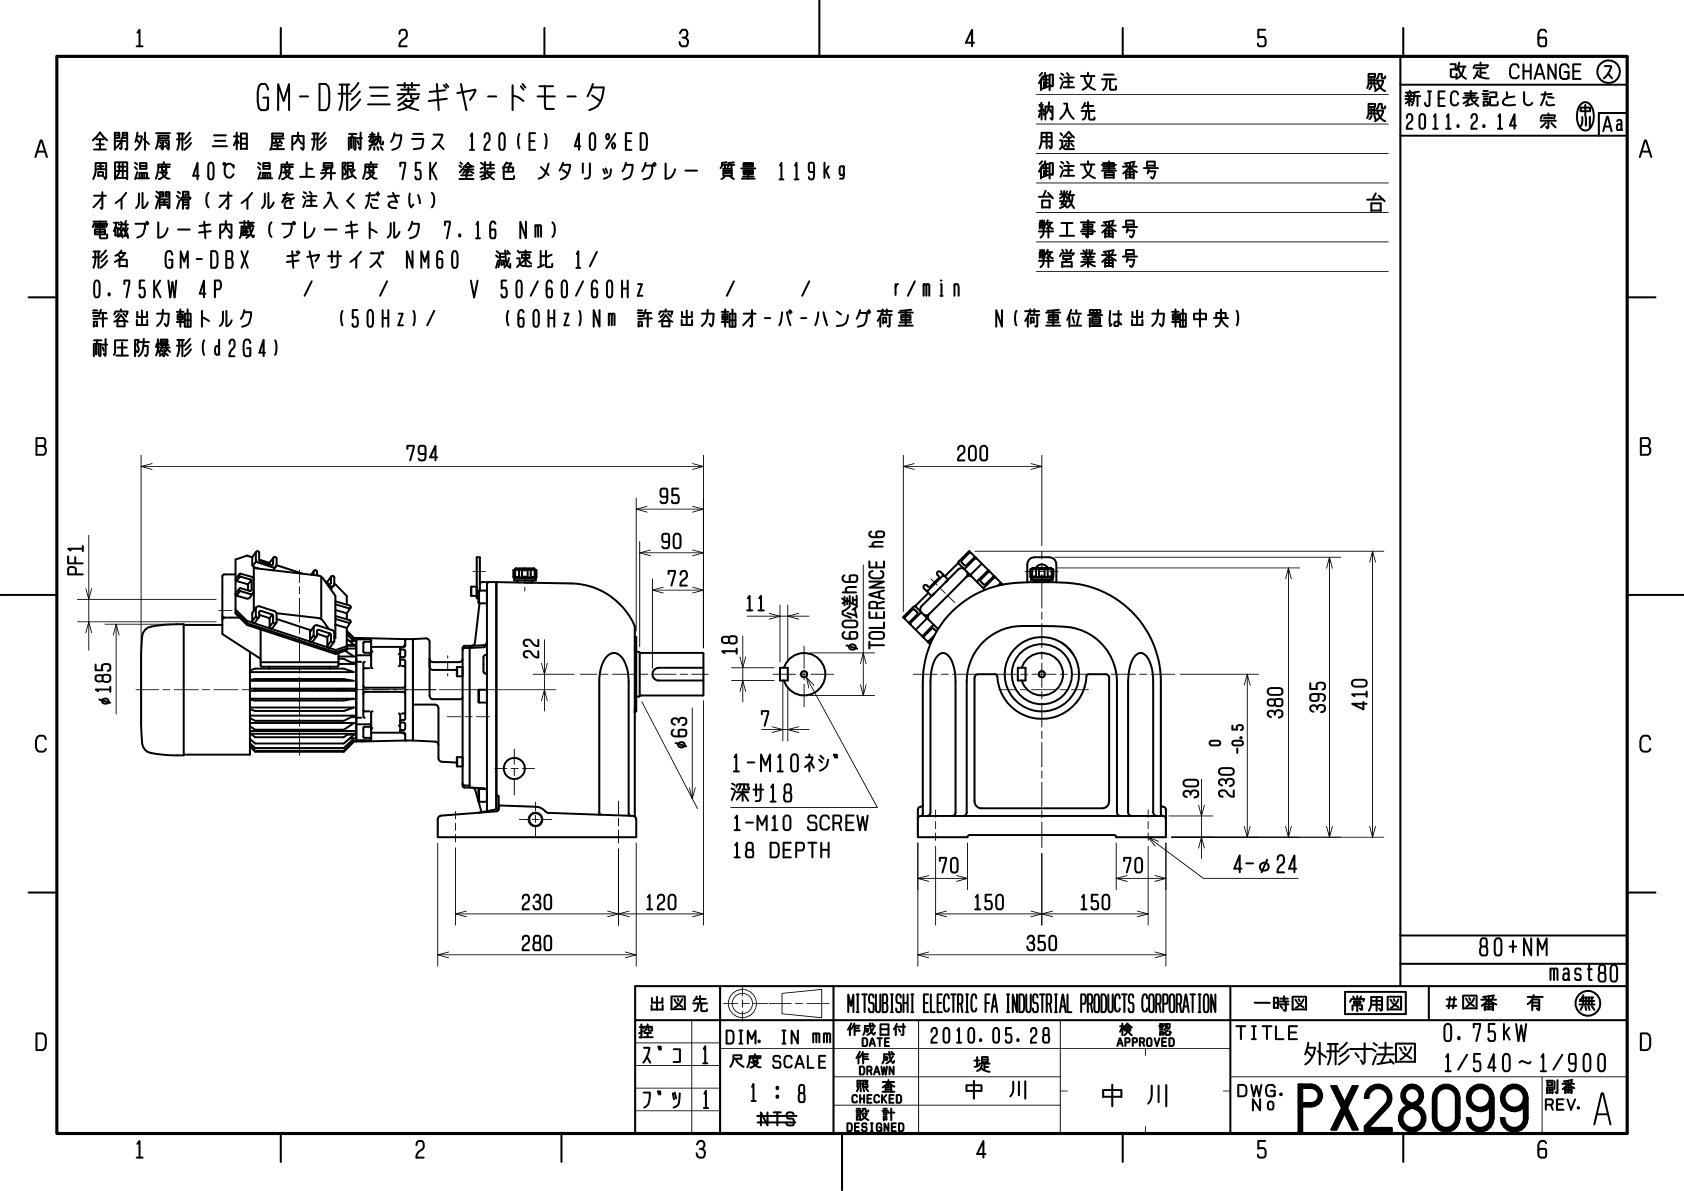GM_D_耐圧屋内_三相_脚: (58, 421, 1397, 974)
